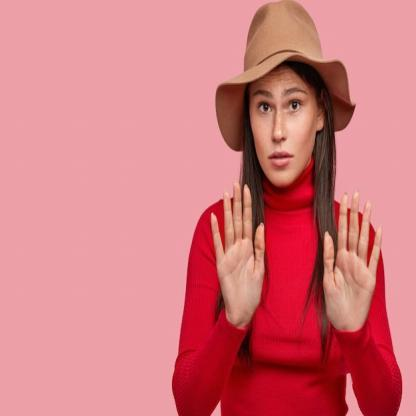stop: (320, 185, 386, 338), (207, 176, 270, 330)
